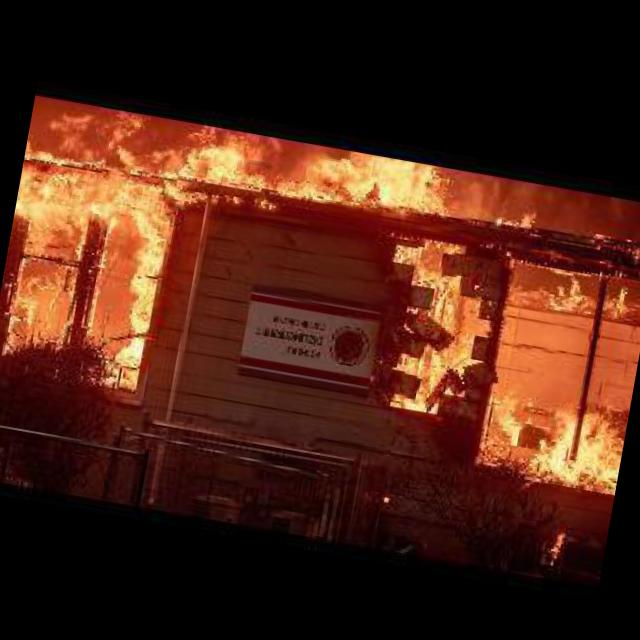fire: (0, 93, 192, 393), (175, 120, 466, 226), (396, 265, 504, 417), (492, 382, 630, 499), (542, 259, 640, 337), (494, 192, 546, 235), (540, 521, 574, 571), (625, 221, 640, 267)
